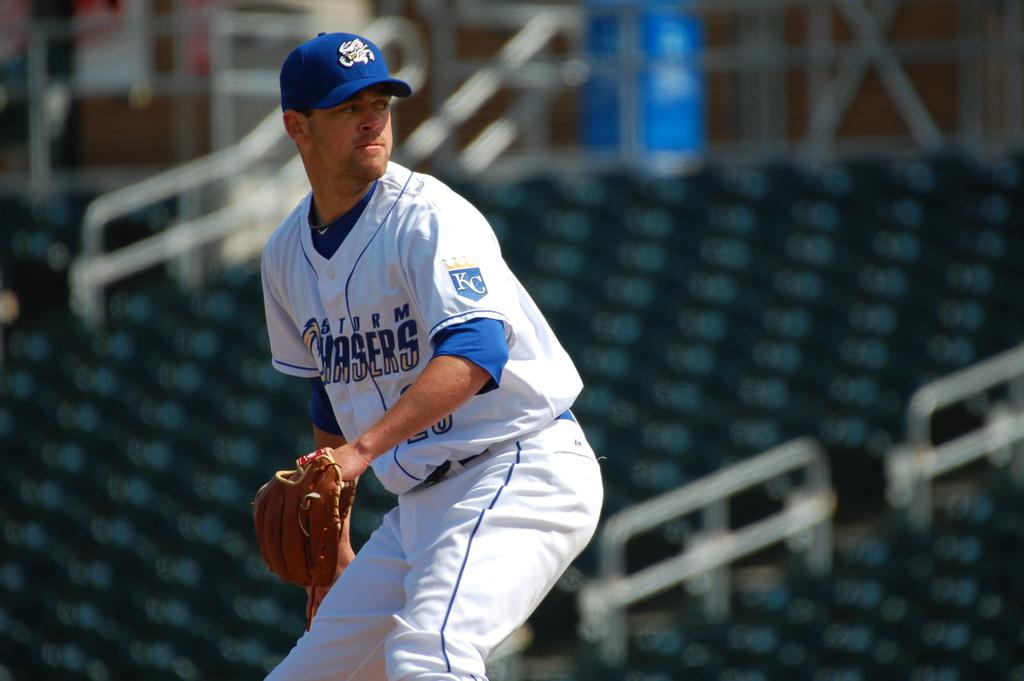Hat: (280, 31, 409, 114)
